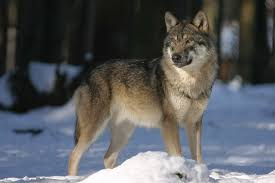wolf: (54, 14, 224, 173)
